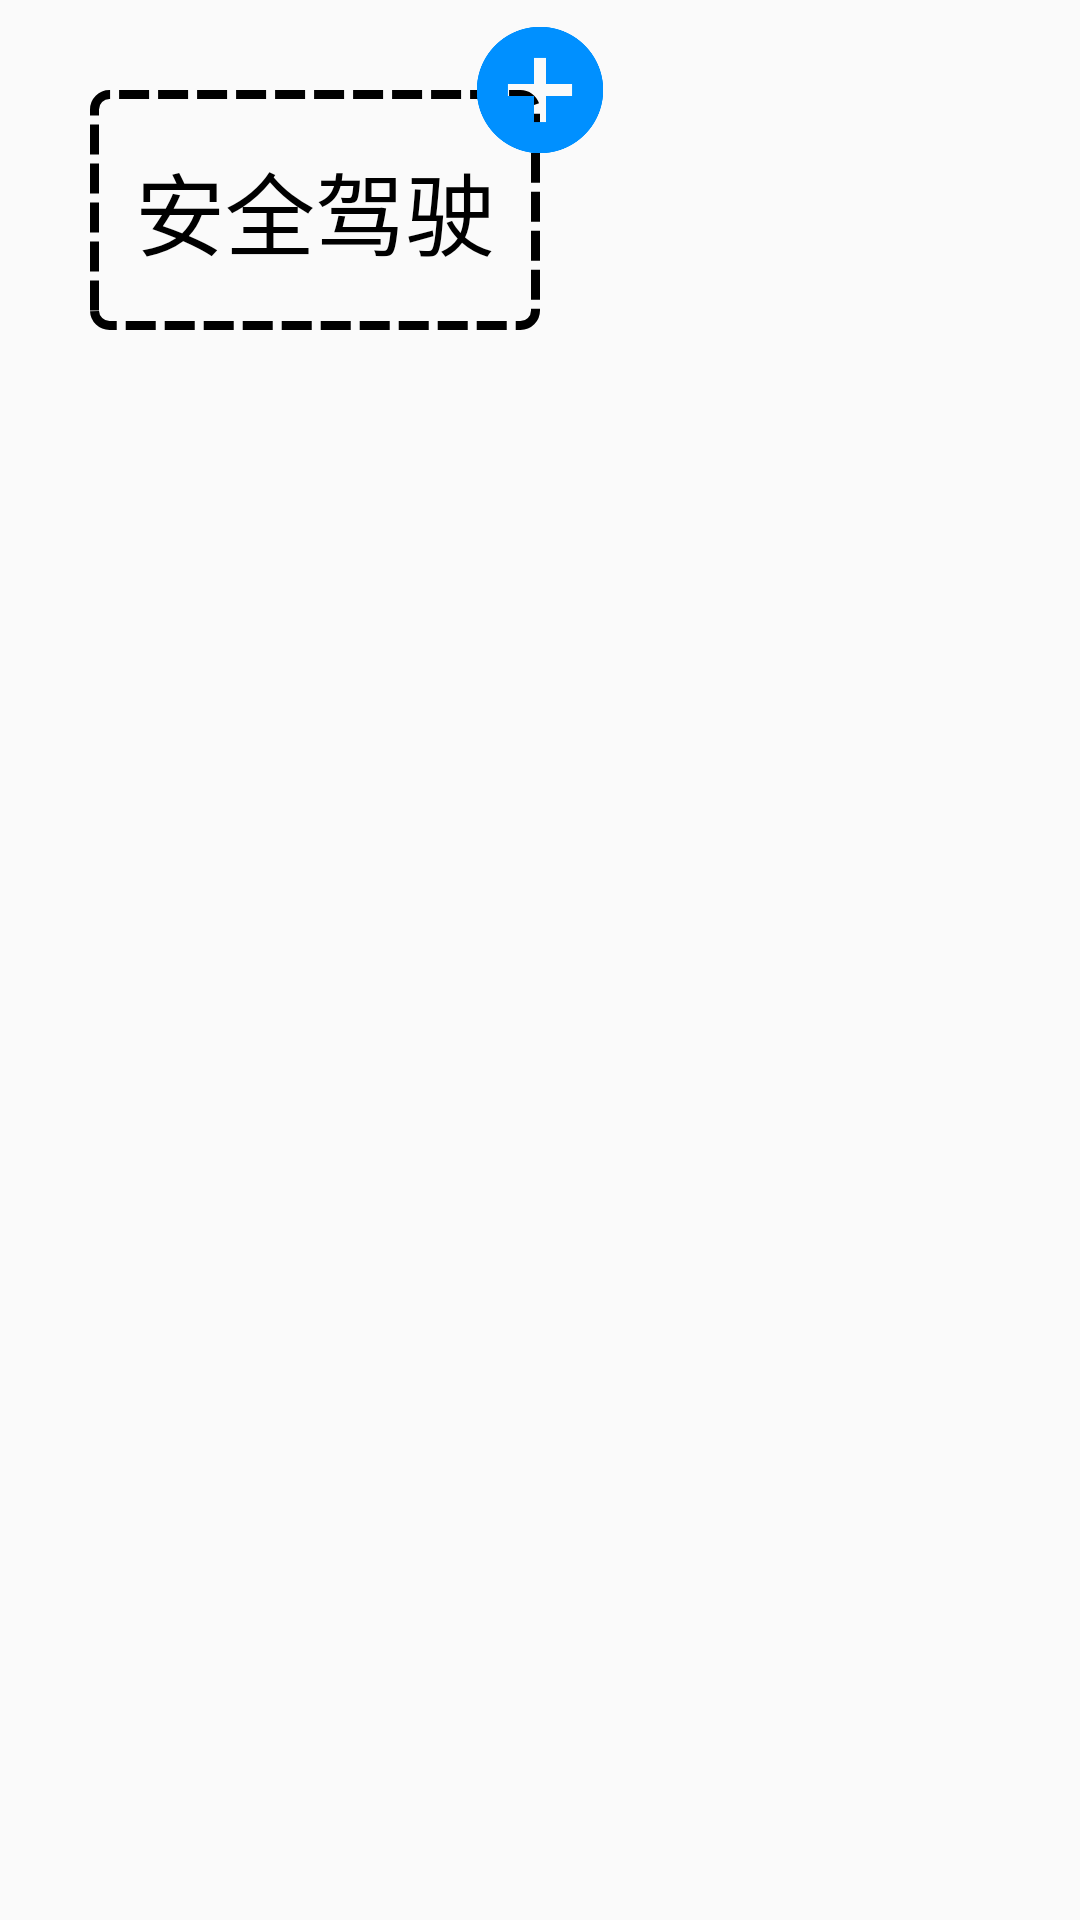

Screen size 1080 x 1920. Icon name, then its box in pixels as (x1, y1, x2, y2):
addjiahao: (470, 27, 603, 180)
